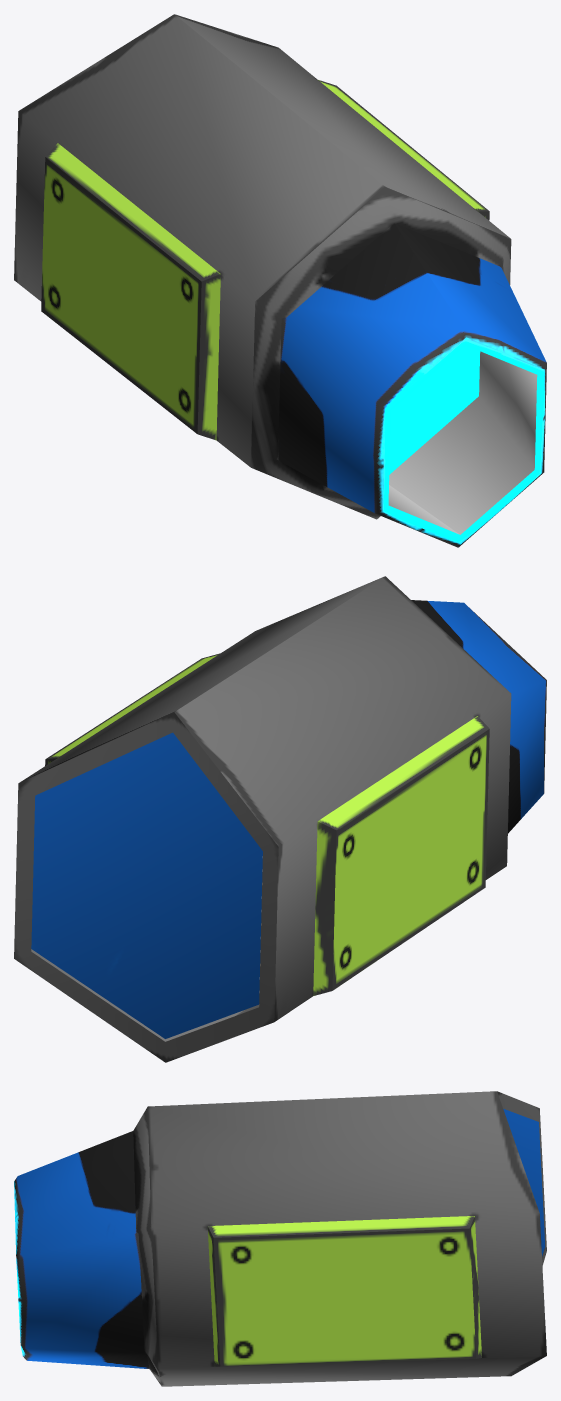
File: Boster_Animation.fbx
3 renders of one model, top to bottom at view 1: azimuth 30°, elevation 25°; view 2: azimuth 150°, elevation 25°; view 3: azimuth 270°, elevation 25°, orthographic. The views are drawn at different scales.
Parts seen in each view (by area): view 1: Cylinder.017; view 2: Cylinder.017; view 3: Cylinder.017.
Boxes of the visible parts, x1,y1,x2,y2 form: Cylinder.017: [14, 14, 546, 547]; Cylinder.017: [14, 576, 546, 1062]; Cylinder.017: [14, 1091, 546, 1386].
Size of the model in its own units: 67.15 by 78.68 by 129.
2 materials, 1 textured.
